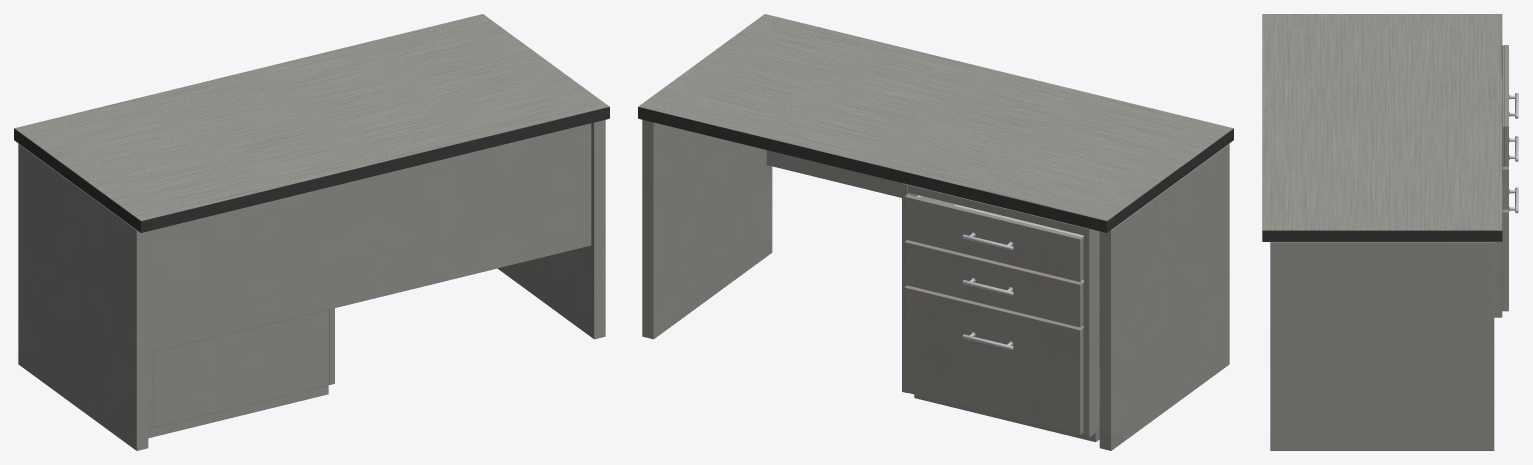
Rendered from desk_3drawer.glb.
3 views of the same model, side by side, from view 1: azimuth 30°, elevation 25°; view 2: azimuth 150°, elevation 25°; view 3: azimuth 270°, elevation 25° (orthographic). The views are drawn at different scales.
Visible parts, largest first — view 1: body; view 2: body, drawer_file, drawer_top, drawer_mid; view 3: body, drawer_top, drawer_file, drawer_mid.
Part boxes in pixels (x1,y1,x2,y2): body: (14,14,609,450); body: (638,14,1233,450); drawer_file: (904,285,1083,434); drawer_top: (904,194,1083,281); drawer_mid: (904,240,1083,327); body: (1262,14,1502,450); drawer_top: (1502,45,1518,166); drawer_file: (1502,187,1518,311); drawer_mid: (1502,136,1518,209).
Size of the model in its own units: 1.6 by 0.76 by 0.801.
Materials: 4 (4 with a texture image).
